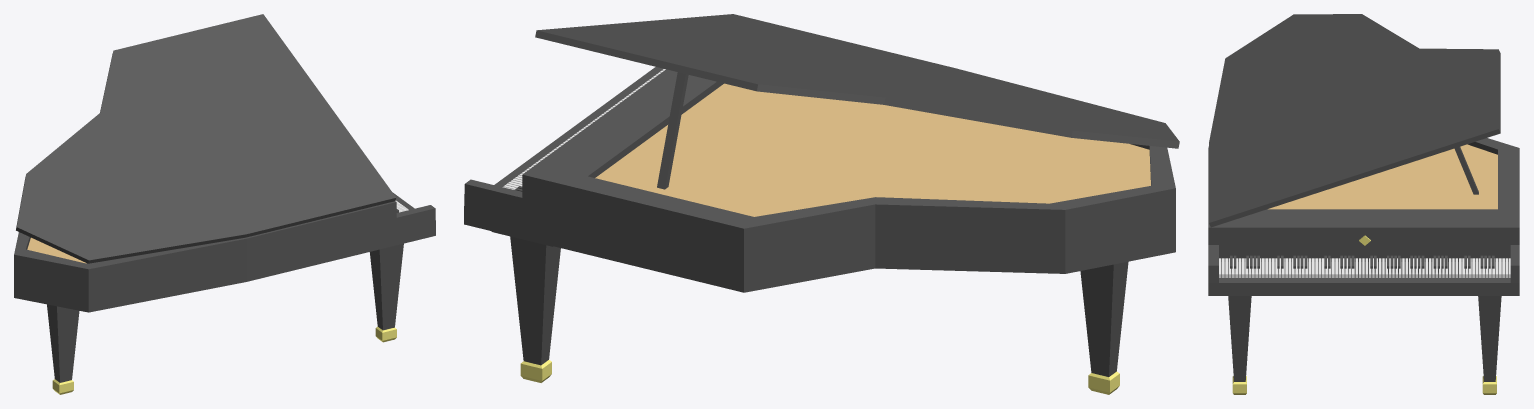
Rendered from piano02.gltf.
The picture shows the model from 3 angles, left to right: view 1: azimuth 30°, elevation 25°; view 2: azimuth 150°, elevation 25°; view 3: azimuth 270°, elevation 25°; orthographic projection. The views are drawn at different scales.
Visible parts, largest first — view 1: piano_Cube.029; view 2: piano_Cube.029; view 3: piano_Cube.029.
Boxes of the visible parts, <box> form: piano_Cube.029: <box>14,14,435,394</box>; piano_Cube.029: <box>464,14,1179,394</box>; piano_Cube.029: <box>1208,14,1519,394</box>.
Size of the model in its own units: 2.53 by 1.52 by 1.64.
